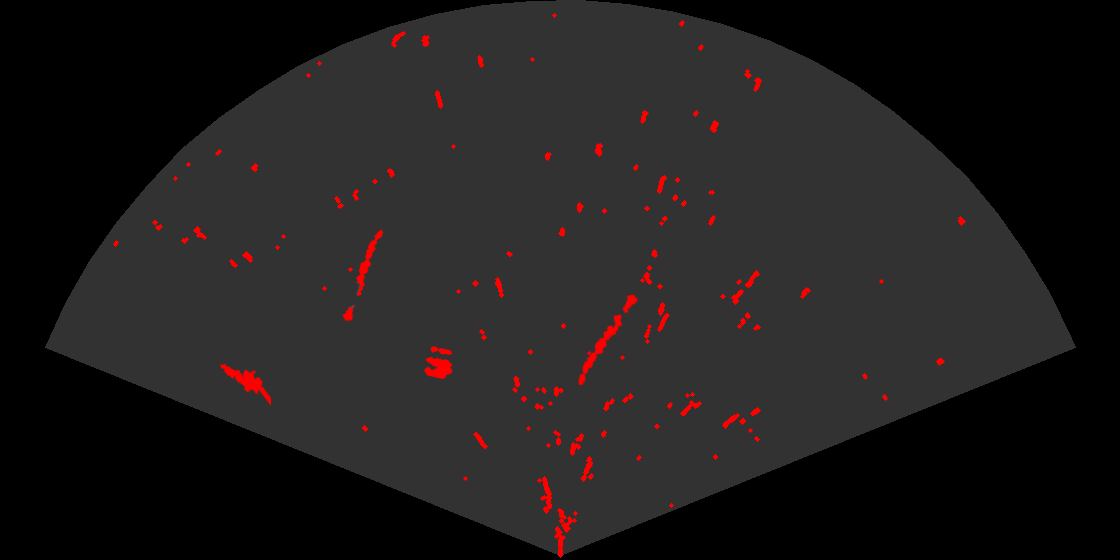ball: (422, 345, 454, 381)
chain: (576, 293, 640, 387), (341, 228, 385, 324)
frogman: (216, 357, 271, 405)
